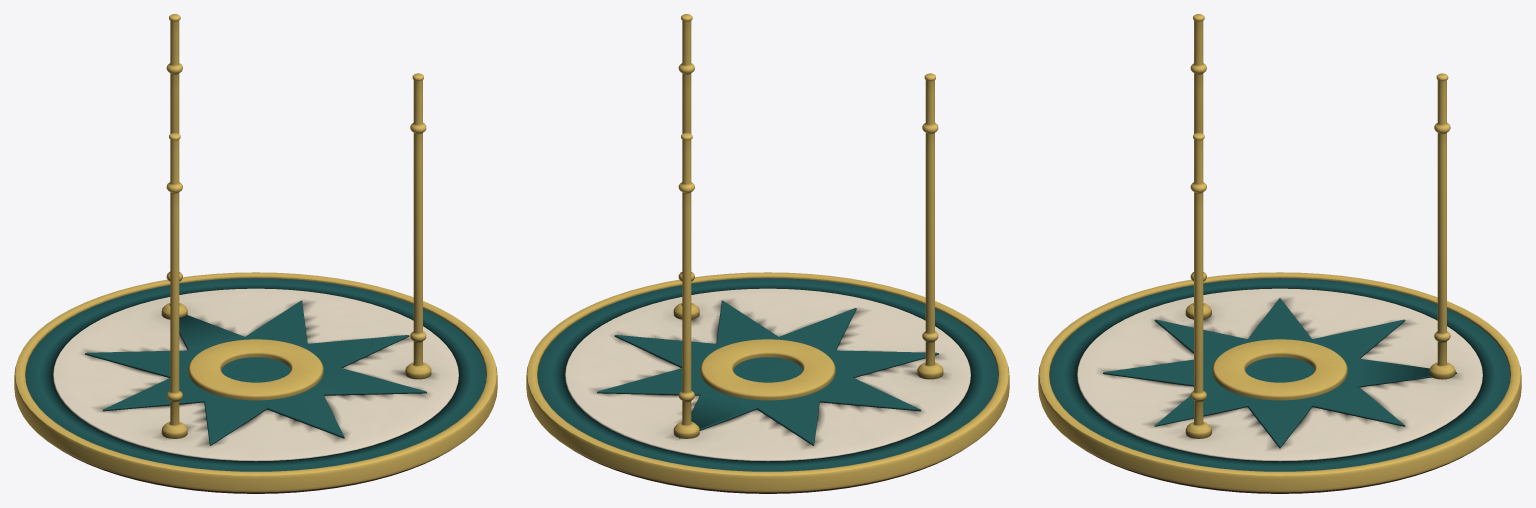
File: carousel_platform.glb
3 renders of one model, left to right at view 1: azimuth 30°, elevation 25°; view 2: azimuth 150°, elevation 25°; view 3: azimuth 270°, elevation 25°, orthographic.
Visible parts, largest first — view 1: CarouselPlatform_Disc, CarouselPlatform_Pole; view 2: CarouselPlatform_Disc, CarouselPlatform_Pole; view 3: CarouselPlatform_Disc, CarouselPlatform_Pole.
Boxes of the visible parts, bbox=[...] form: CarouselPlatform_Disc: bbox=[14, 272, 497, 493]; CarouselPlatform_Pole: bbox=[161, 14, 431, 438]; CarouselPlatform_Disc: bbox=[526, 272, 1009, 493]; CarouselPlatform_Pole: bbox=[673, 14, 943, 438]; CarouselPlatform_Disc: bbox=[1038, 272, 1521, 493]; CarouselPlatform_Pole: bbox=[1185, 14, 1455, 438].
Bounding box in the file's own units: 0.125 × 0.091 × 0.125.
